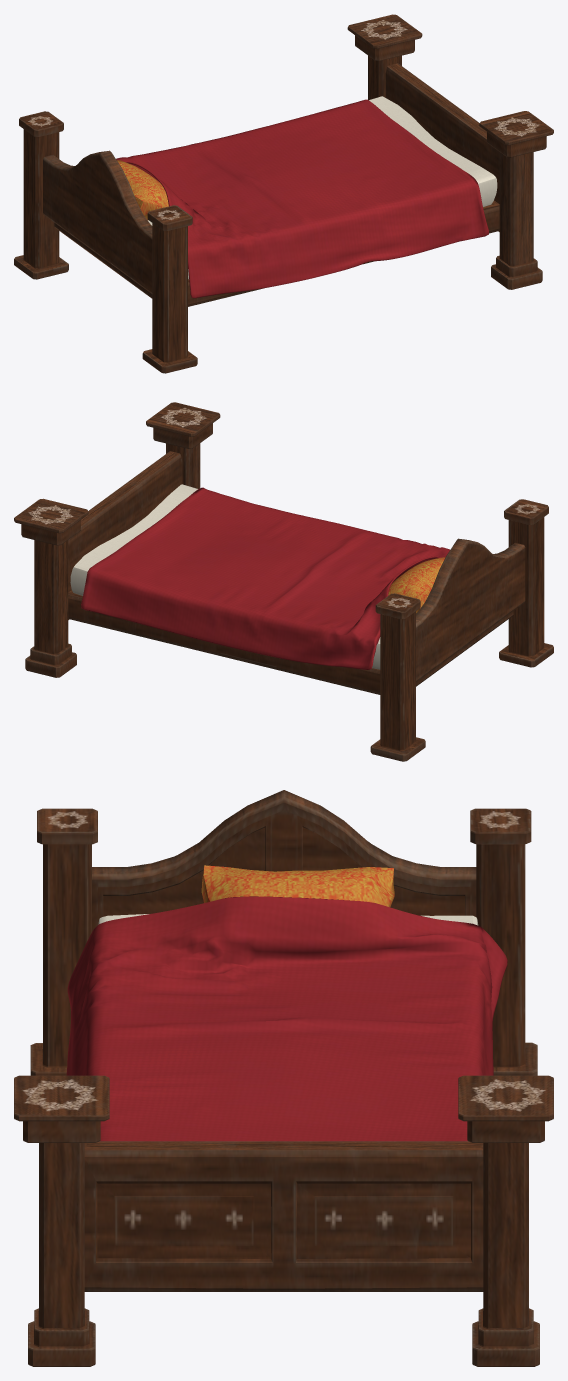
File: medieval_bed.glb
3 views of the same model, one above another, from view 1: azimuth 30°, elevation 25°; view 2: azimuth 150°, elevation 25°; view 3: azimuth 270°, elevation 25° (orthographic). The views are drawn at different scales.
Parts seen in each view (by area): view 1: Bed_001; view 2: Bed_001; view 3: Bed_001.
Boxes of the visible parts, x1,y1,x2,y2 form: Bed_001: (14,14,553,373); Bed_001: (14,402,553,761); Bed_001: (14,790,553,1366).
Bounding box in the file's own units: 2 × 0.804 × 1.43.
Materials: 1 (1 with a texture image).
